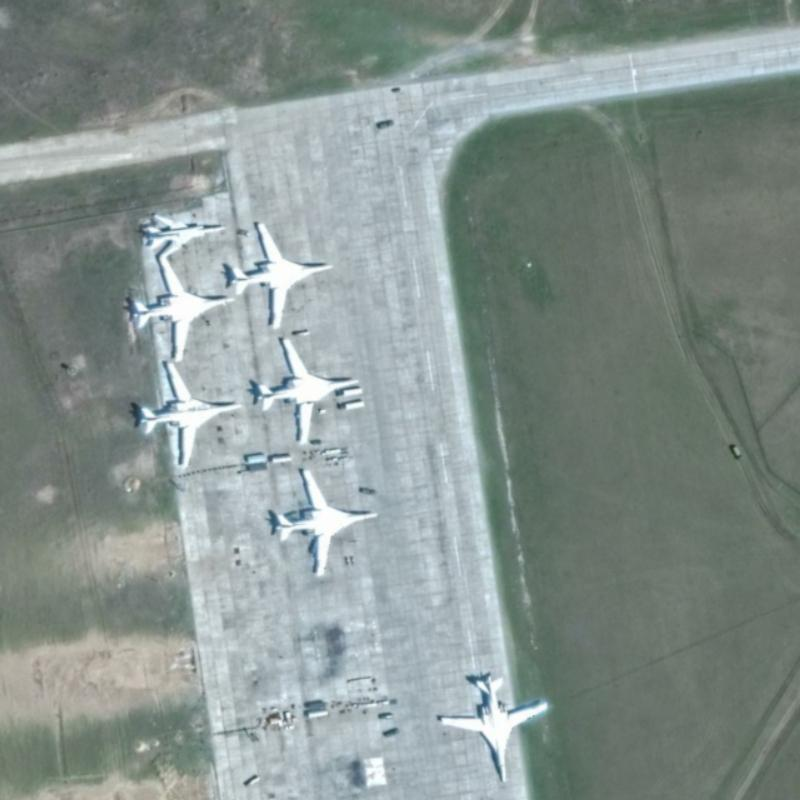A12: (138, 207, 230, 259)
A6: (268, 465, 384, 580), (437, 670, 552, 784), (252, 335, 365, 449), (133, 357, 246, 470), (225, 216, 335, 332), (124, 252, 236, 365)
